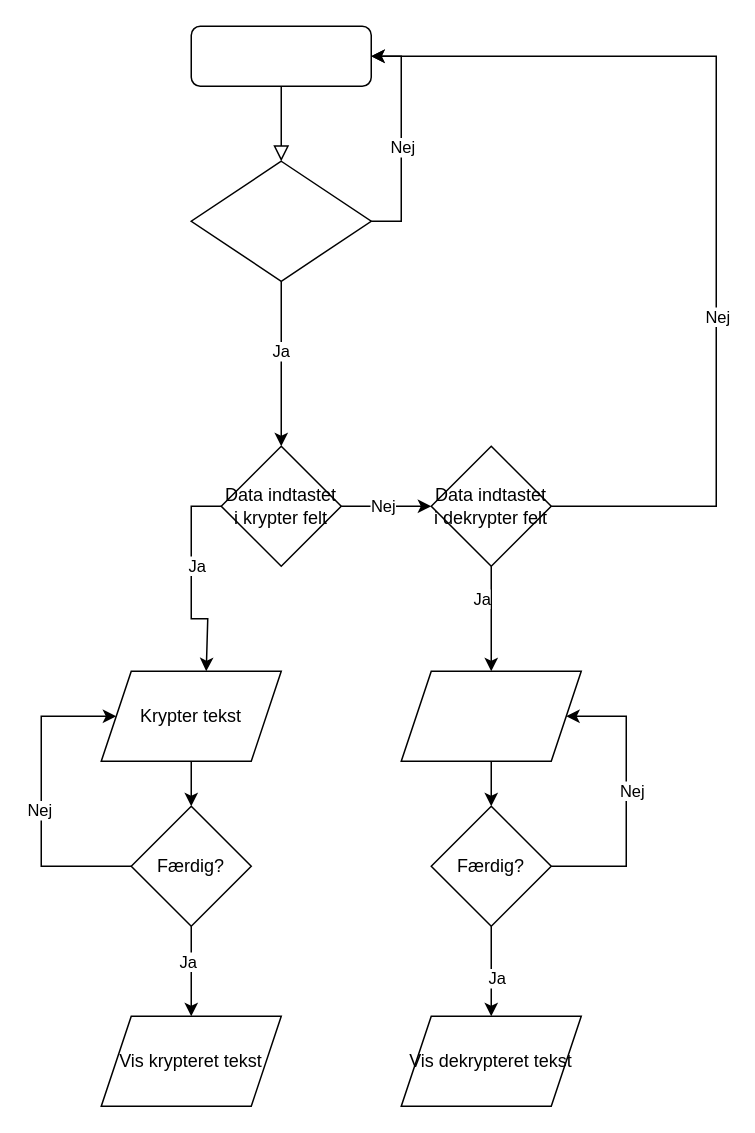
This 755x1133 diagram has some shape labels left out. Here are the shapes that lost their labels. From the top down, the centre of each, then its label:
point 280,55: Start
point 280,220: Data indtastet i secretkey felt?
point 490,715: Dekrypter tekst
